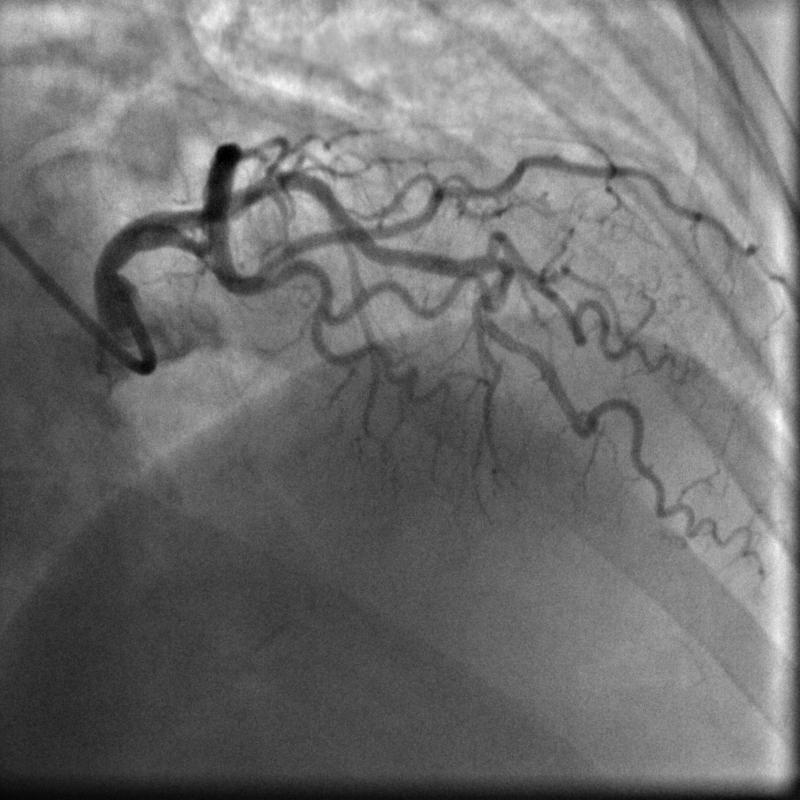Stenosis: (188, 208, 216, 258)
